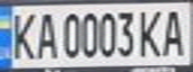0: (57, 8, 81, 60), (78, 8, 100, 60), (100, 8, 118, 59)
3: (115, 7, 139, 58)
A: (157, 6, 190, 57), (33, 8, 60, 61)
K: (3, 8, 39, 61), (136, 7, 166, 58)
